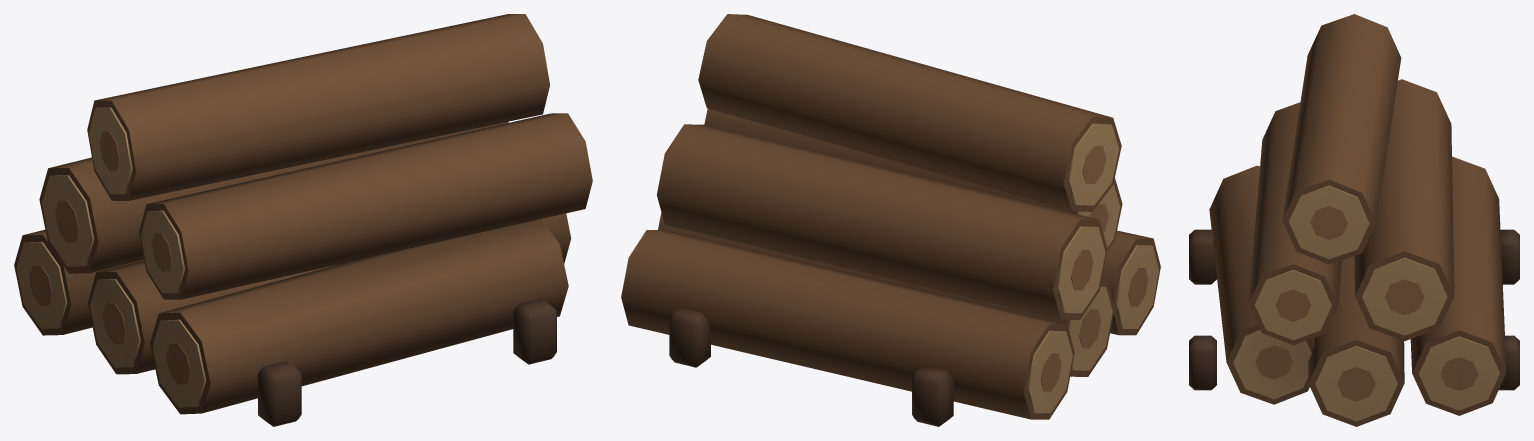
File: log_pile.glb
3 renders of one model, left to right at view 1: azimuth 30°, elevation 25°; view 2: azimuth 150°, elevation 25°; view 3: azimuth 270°, elevation 25°, orthographic. The views are drawn at different scales.
Parts seen in each view (by area): view 1: log_pile; view 2: log_pile; view 3: log_pile.
Boxes of the visible parts, x1,y1,x2,y2 form: log_pile: [14, 14, 592, 426]; log_pile: [621, 14, 1160, 426]; log_pile: [1189, 14, 1519, 426].
Size of the model in its own units: 1.59 by 0.9263 by 1.19.
